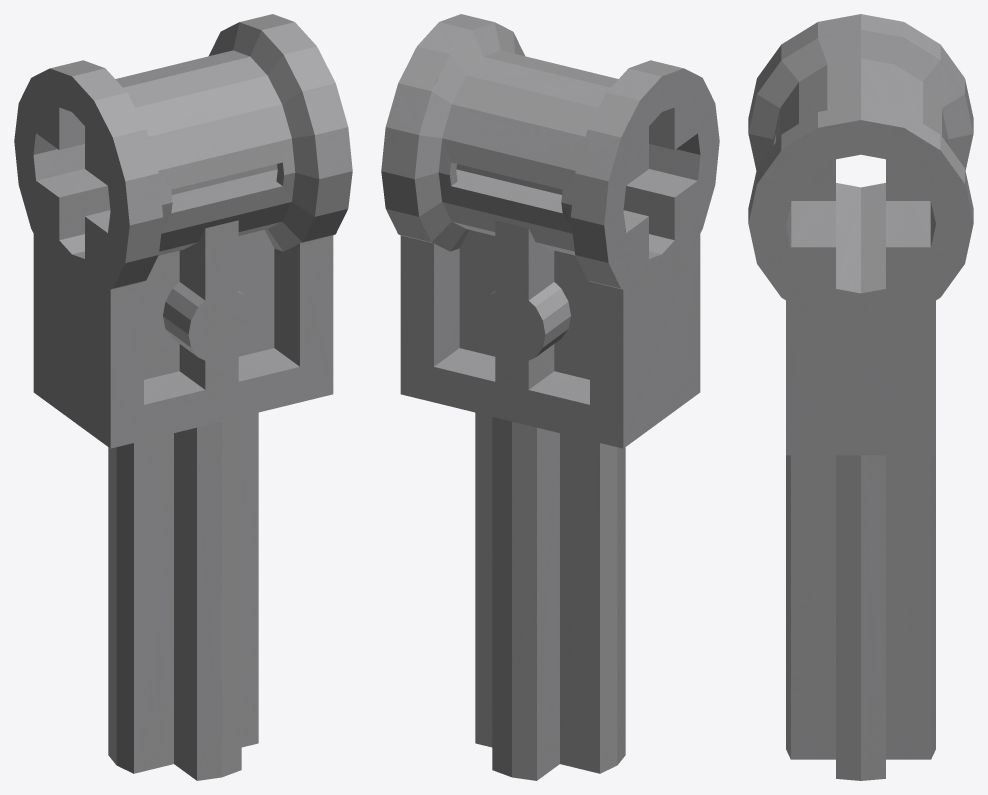
File: catch.dae
3 views of the same model, side by side, from view 1: azimuth 30°, elevation 25°; view 2: azimuth 150°, elevation 25°; view 3: azimuth 270°, elevation 25° (orthographic). The views are drawn at different scales.
Visible parts, largest first — view 1: node; view 2: node; view 3: node.
Boxes of the visible parts, x1,y1,x2,y2 form: node: [14, 14, 352, 780]; node: [381, 14, 719, 780]; node: [748, 14, 973, 780].
Bounding box in the file's own units: 19.5 × 58.5 × 17.5.
Materials: 1 (1 with a texture image).
